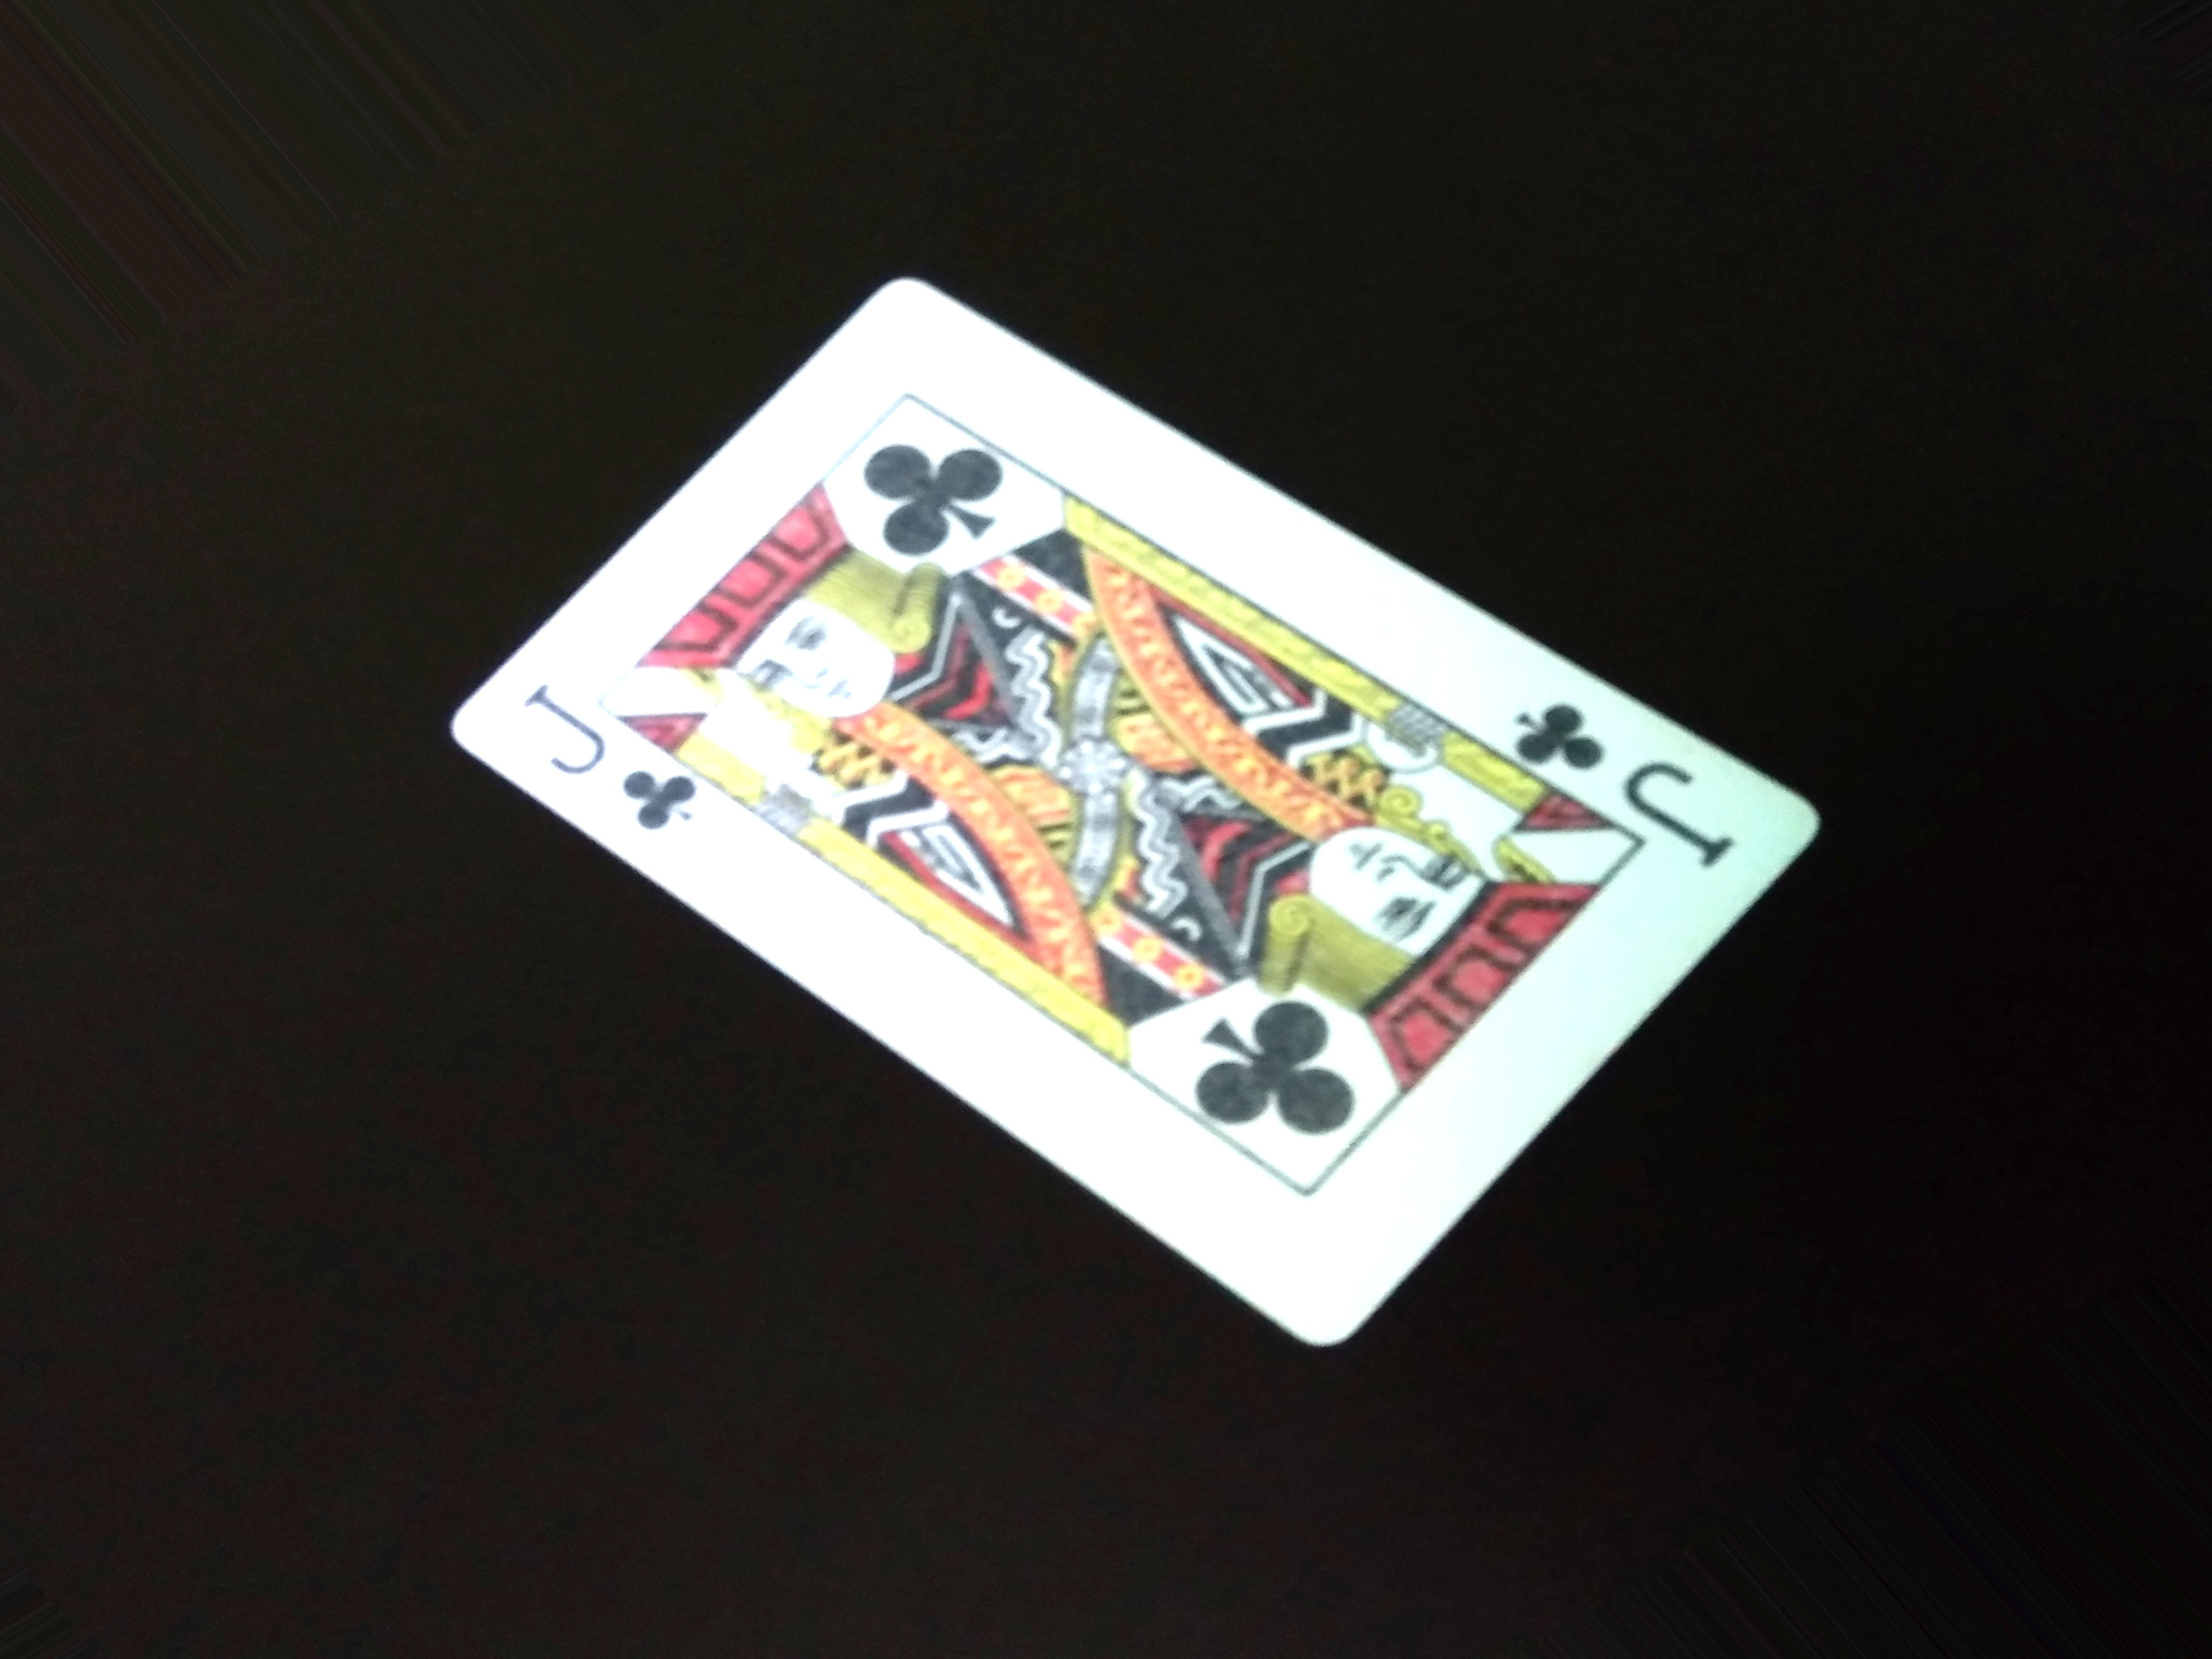JC: (505, 678, 700, 833)
